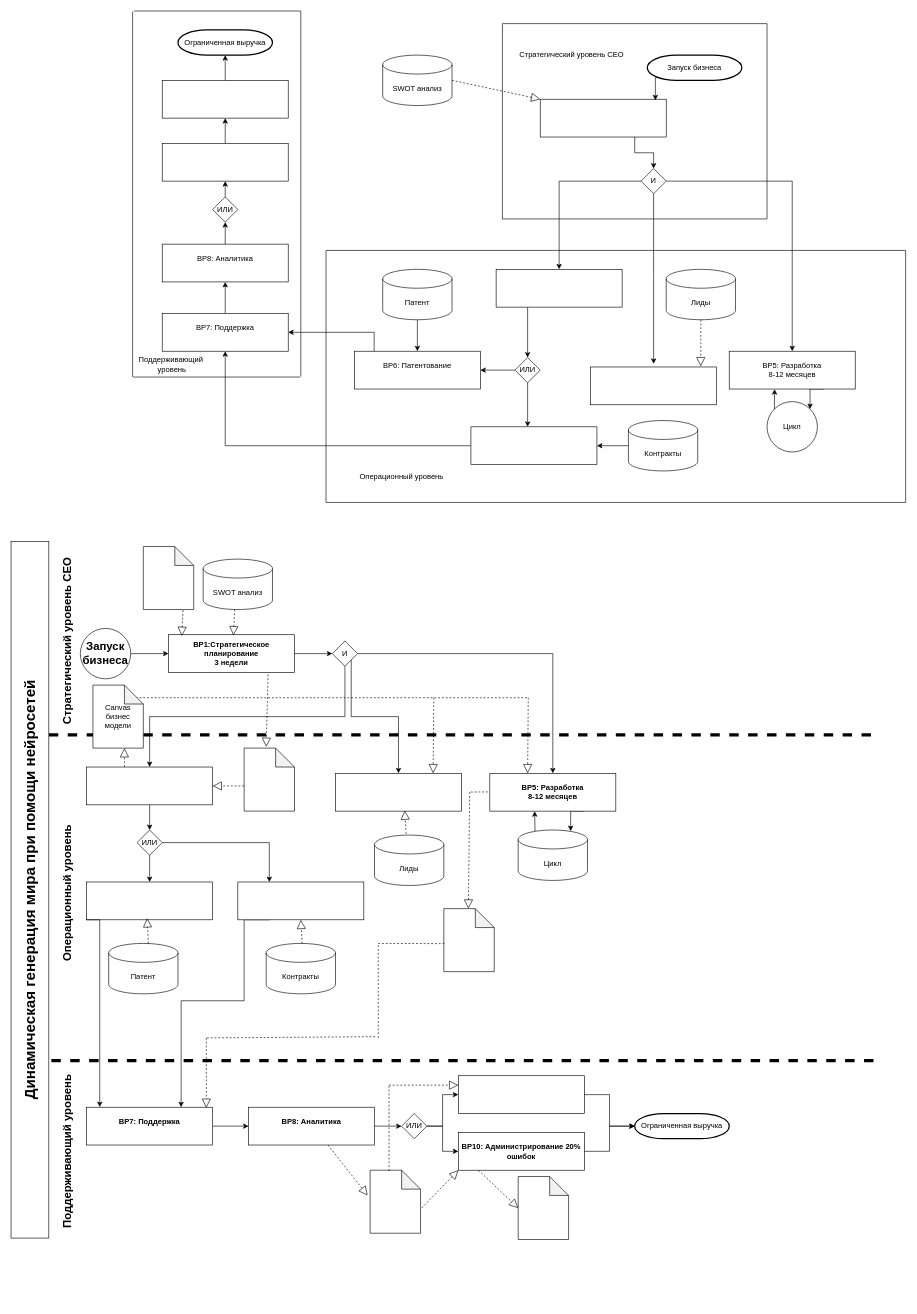
Image size: 917x1314. Some labels were removed from this diagram. Here are the shapes that lost their labels. From the top down, the centre of each, then its label:
point (225, 99): BP10: Администрирование
point (603, 118): BP1:Стратегическое планирование
point (225, 162): BP9: Партнерства
point (558, 288): BP2: Бизнес модель Canvas
point (653, 385): BP3: Маркетинг 1000 лидов
point (533, 445): BP4: Продажи
point (168, 578): Рыночные данные
point (149, 785): BP2: Бизнес модель Canvas 2 недели
point (269, 779): SWOT данные
point (398, 792): BP3: Маркетинг 250 лидов
point (149, 900): BP6: Патентование (ручное)
point (300, 900): BP4: Продажи 5-10%
point (468, 940): Данные обратной связи от клиентов
point (521, 1094): BP9: Партнерства 70% риск
point (395, 1201): Метрики
point (543, 1208): Финансовые отчеты
